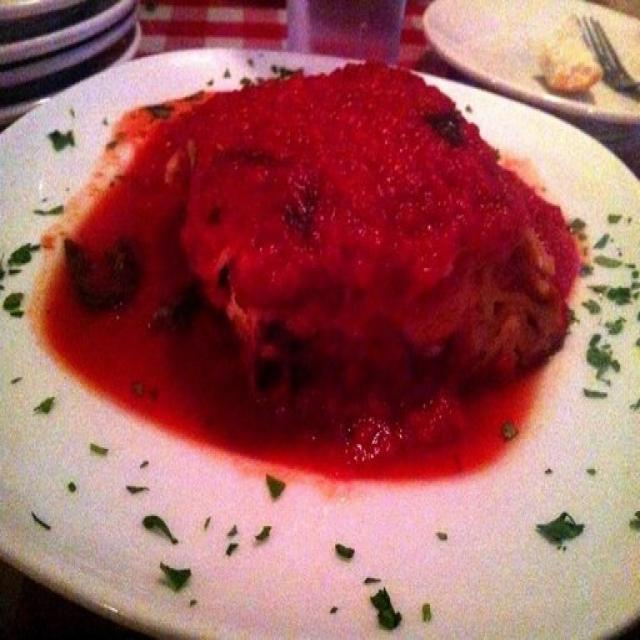Lasagna: (121, 45, 610, 441)
